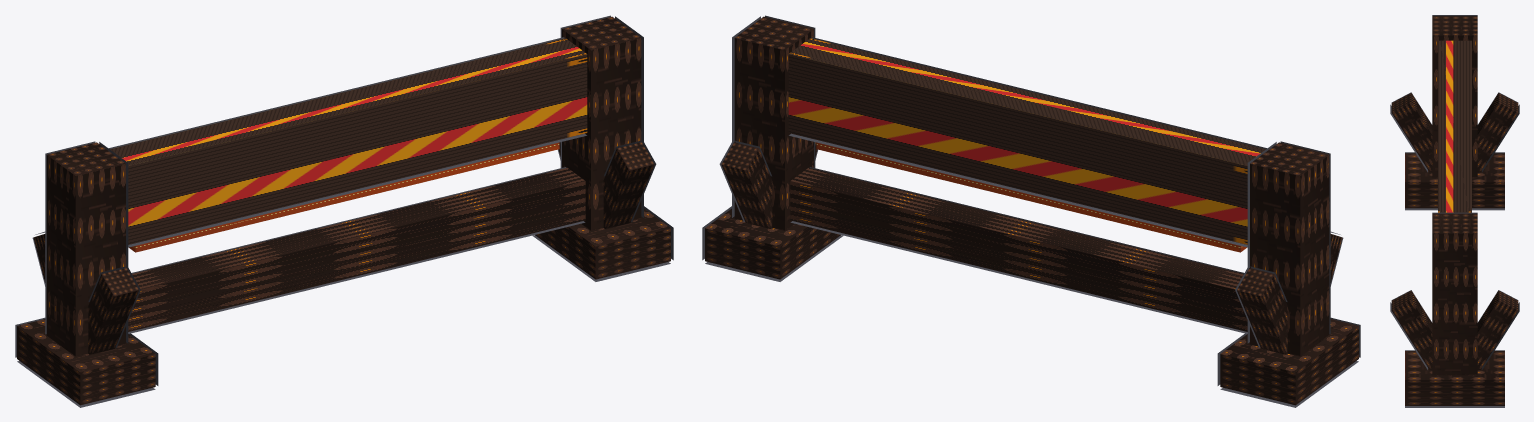
The model's file is kathmandu_obstacle_hurdle.glb.
3 renders of one model, left to right at view 1: azimuth 30°, elevation 25°; view 2: azimuth 150°, elevation 25°; view 3: azimuth 270°, elevation 25°, orthographic. The views are drawn at different scales.
Parts seen in each view (by area): view 1: Hurdle_Root; view 2: Hurdle_Root; view 3: Hurdle_Root.
Boxes of the visible parts, box(x1,y1,x2,y2) form: Hurdle_Root: box(15, 15, 673, 407); Hurdle_Root: box(702, 15, 1360, 407); Hurdle_Root: box(1390, 15, 1519, 407).
Size of the model in its own units: 1.9 by 0.666 by 0.454.
Materials: 2 (1 with a texture image).
